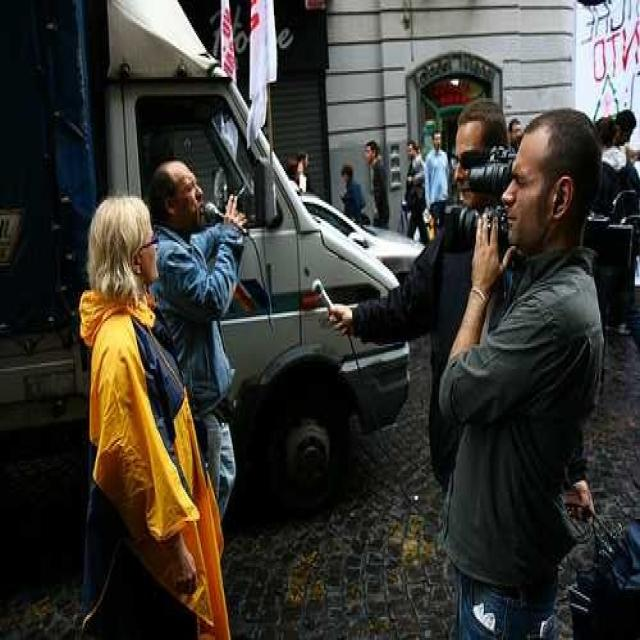microphone: (314, 277, 346, 333), (208, 199, 248, 236), (204, 202, 222, 224)
